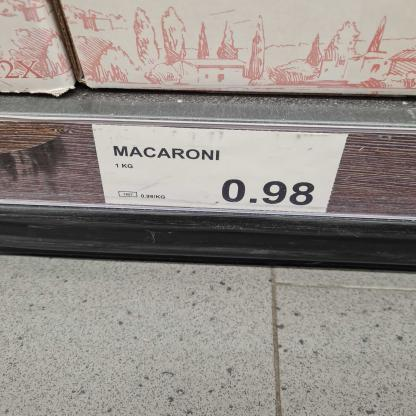prtg: (93, 127, 348, 214)
